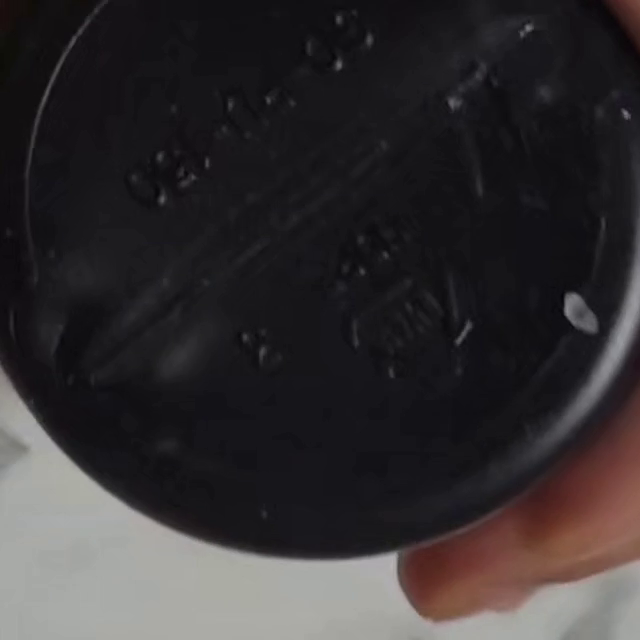Plastic: (337, 255, 473, 384)
